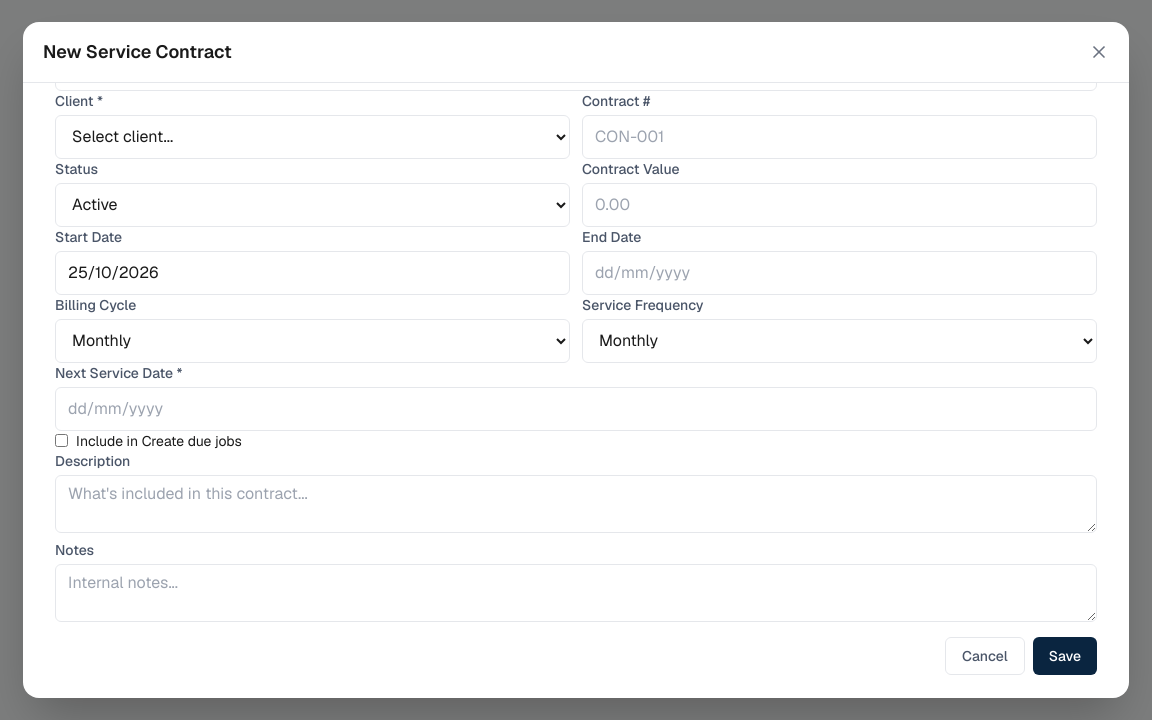
Test case: ContractForm date range › blocks a blank title and client with inline errors
(page scrolled)
Click the submit button. click: (1065, 656)
box: x1=1033 y1=637 x2=1097 y2=675
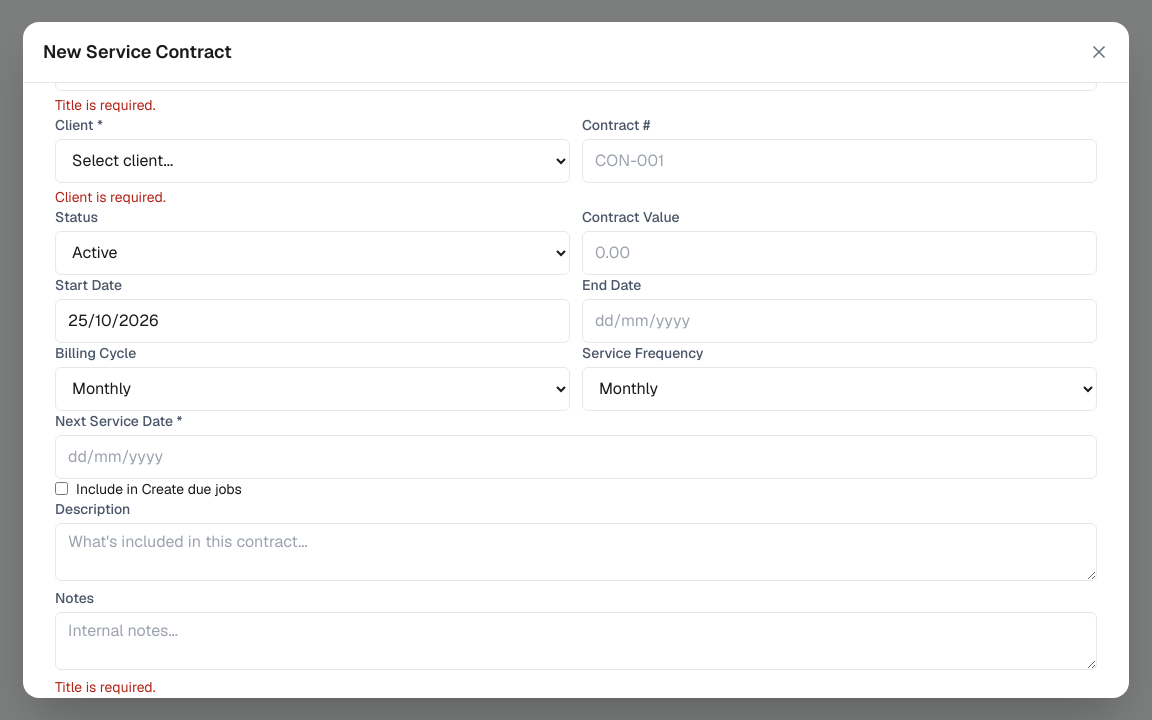
expect the text "Title is required." is shown: met, box x1=55 y1=96 x2=156 y2=114
expect the text "Client is required." is shown: met, box x1=55 y1=188 x2=166 y2=206
